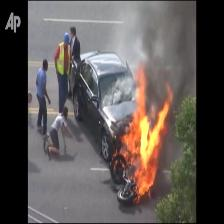fire: (117, 64, 173, 197)
